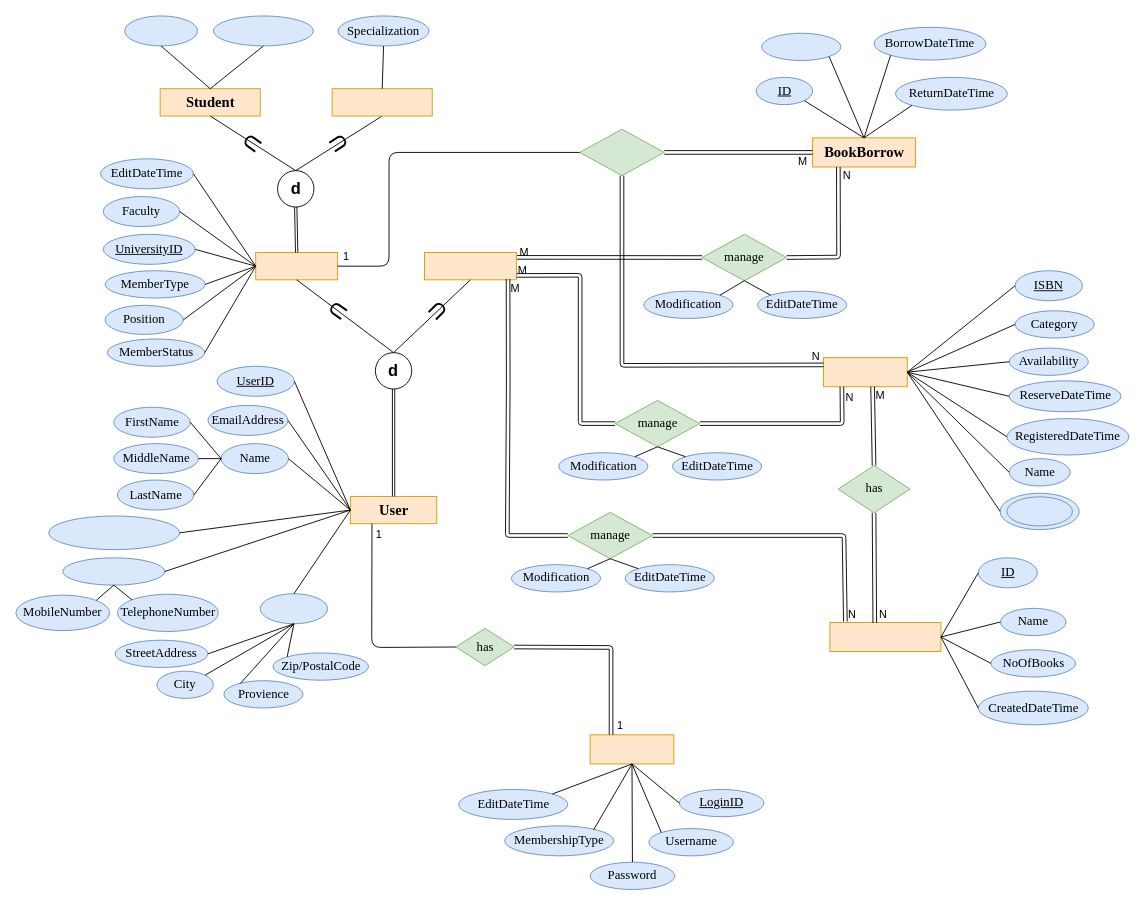
This 1145x905 diagram has some shape labels left out. The centre of each missing label's shape, as x and y in pixels:
Address: point 293,608
Author: point 1039,511
Batch: point 160,30
Book: point 865,372
BookCatalog: point 885,637
borrow: point 621,152
DegreeProgram: point 262,30
LateFine: point 801,46
Librarian: point 470,266
Login: point 631,749
Member: point 296,266
PhoneNumber: point 113,571
Professor: point 381,102
RegistrationDateTime: point 114,532
